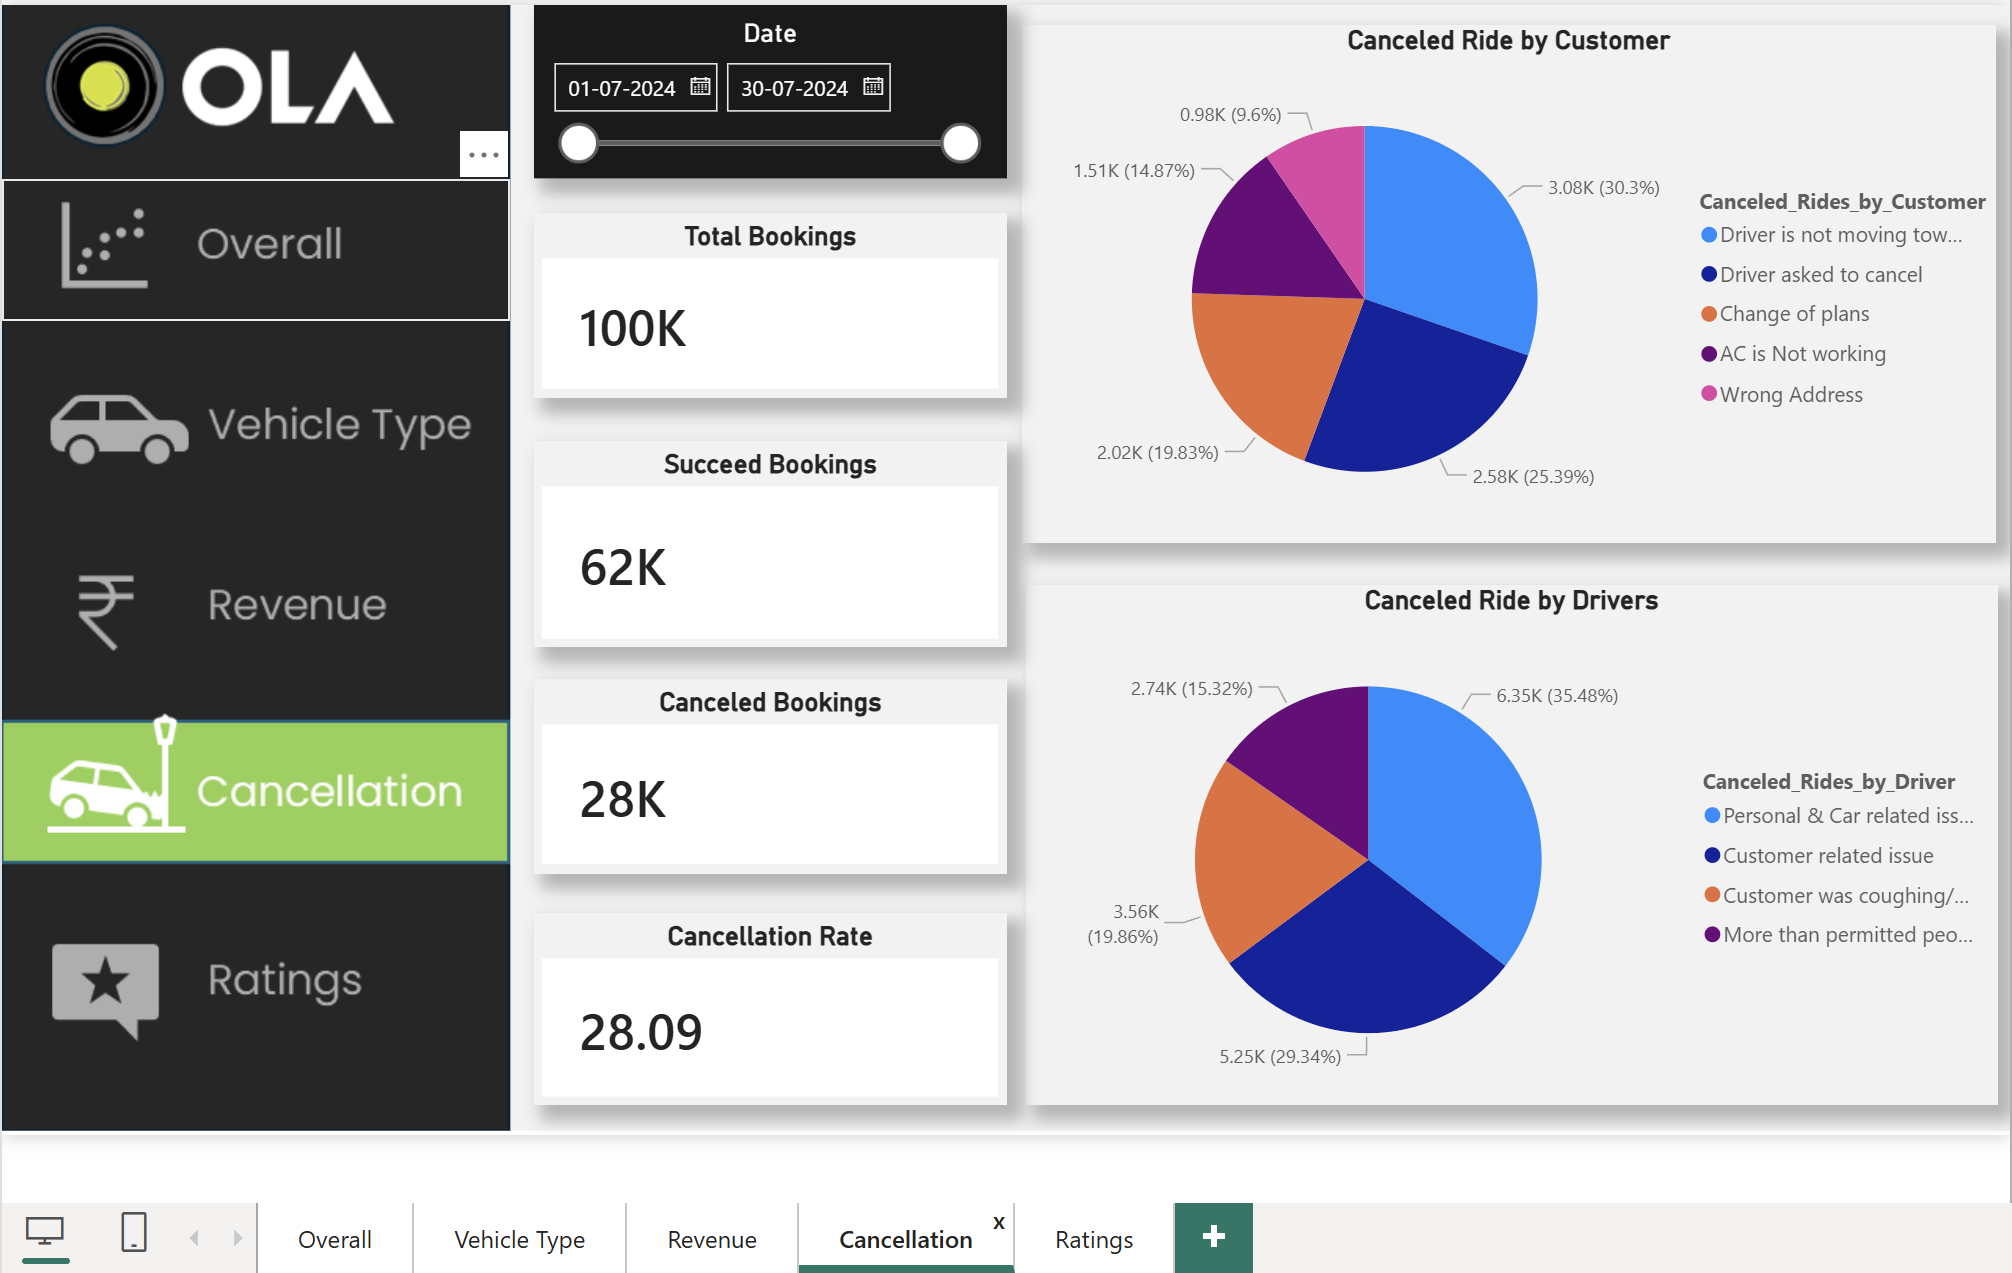

What the dashboard file says about the page in this screenshot:
{"tool":"powerbi","page":{"name":"Cancellation","canvas":[1280,720],"ordinal":3},"visuals":[{"type":"actionButton","box":[0,110.3,324.2,91],"z":0},{"type":"actionButton","box":[0,220.7,324.2,94.4],"z":1000},{"type":"actionButton","box":[1.1,343.5,324.2,86.4],"z":2000},{"type":"actionButton","box":[0,579,324.2,94.4],"z":3000},{"type":"pieChart","title":"Canceled Ride by Customer","fields":{"Category":["Bookings_OLA_Dataset.Canceled_Rides_by_Customer"],"Y":["CountNonNull(Bookings_OLA_Dataset.Canceled_Rides_by_Customer)"]},"box":[650.2,12.7,620.9,330.2],"z":4000},{"type":"pieChart","title":"Canceled Ride by Drivers","fields":{"Category":["Bookings_OLA_Dataset.Canceled_Rides_by_Driver"],"Y":["CountNonNull(Bookings_OLA_Dataset.Canceled_Rides_by_Driver)"]},"box":[652.2,370.1,619.4,331.3],"z":5000},{"type":"slicer","title":"Date","fields":{"Values":["Bookings_OLA_Dataset.Date"]},"box":[338.8,0,301.5,110.4],"z":6000},{"type":"cardVisual","title":"Total Bookings","fields":{"Data":["CountNonNull(Bookings_OLA_Dataset.Booking_ID)"]},"box":[338.8,132.8,301.5,117.9],"z":7000},{"type":"cardVisual","title":"Succeed Bookings","fields":{"Data":["CountNonNull(Bookings_OLA_Dataset.Booking_ID)"]},"box":[338.8,277.6,301.5,131.3],"z":8000},{"type":"cardVisual","title":"Canceled Bookings","fields":{"Data":["CountNonNull(Bookings_OLA_Dataset.Booking_ID)"]},"box":[338.8,429.9,301.5,123.9],"z":9000},{"type":"cardVisual","title":"Cancellation Rate","fields":{"Data":["Bookings_OLA_Dataset.Canceled_Booking_Percentage"]},"box":[338.8,579.1,301.5,122.4],"z":10000}]}

Visuals, with their boxes on the page's 1280x720 design canvas (x1, y1, x2, y2). These are canvas units, not pixel positions in the 2012x1273 screenshot, which may show the page scaled, cropped or inside an application window:
actionButton: region(0, 110, 324, 201)
actionButton: region(0, 221, 324, 315)
actionButton: region(1, 344, 325, 430)
actionButton: region(0, 579, 324, 673)
"Canceled Ride by Customer" pieChart: region(650, 13, 1271, 343)
"Canceled Ride by Drivers" pieChart: region(652, 370, 1272, 701)
"Date" slicer: region(339, 0, 640, 110)
"Total Bookings" cardVisual: region(339, 133, 640, 251)
"Succeed Bookings" cardVisual: region(339, 278, 640, 409)
"Canceled Bookings" cardVisual: region(339, 430, 640, 554)
"Cancellation Rate" cardVisual: region(339, 579, 640, 702)
